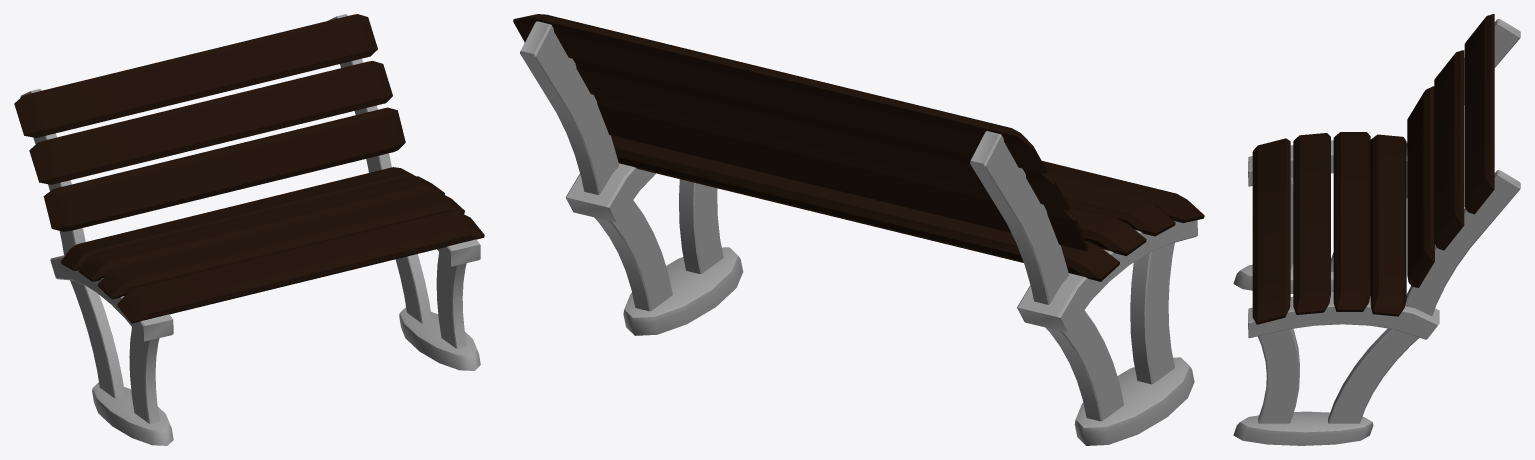
The model's file is Bench.FBX.
The picture shows the model from 3 angles, left to right: view 1: azimuth 30°, elevation 25°; view 2: azimuth 150°, elevation 25°; view 3: azimuth 270°, elevation 25°; orthographic projection. The views are drawn at different scales.
Parts seen in each view (by area): view 1: Bench; view 2: Bench; view 3: Bench.
Part boxes in pixels (x1=…): Bench: x1=14, y1=14, x2=484, y2=445; Bench: x1=513, y1=14, x2=1204, y2=445; Bench: x1=1233, y1=14, x2=1520, y2=445.
Bounding box in the file's own units: 62.91 × 44.43 × 43.75.
